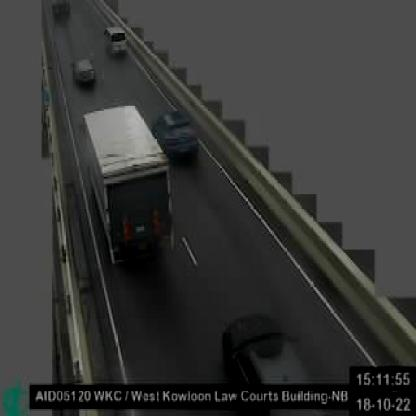Car: (153, 112, 200, 166), (71, 55, 96, 90), (104, 25, 129, 57), (49, 0, 74, 20)
Truck: (79, 103, 172, 265)
